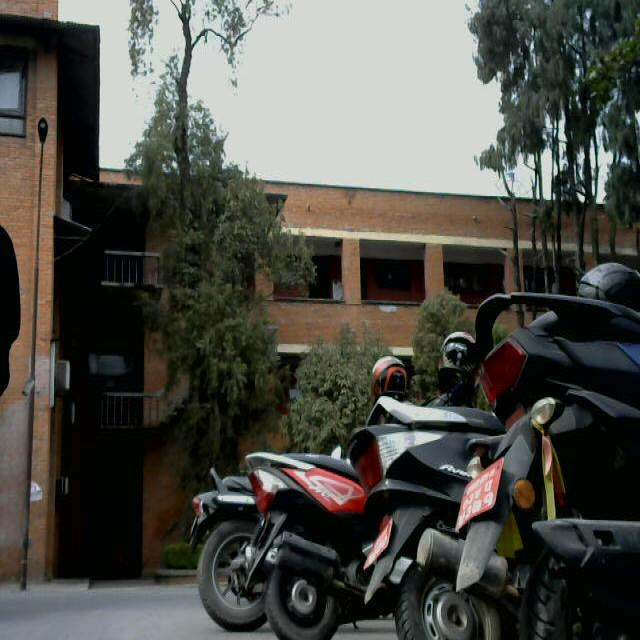Bike: (184, 280, 640, 640)
Buildings: (278, 173, 580, 320)
Pole: (27, 109, 52, 598)
trees: (132, 1, 294, 449), (468, 0, 635, 183)
